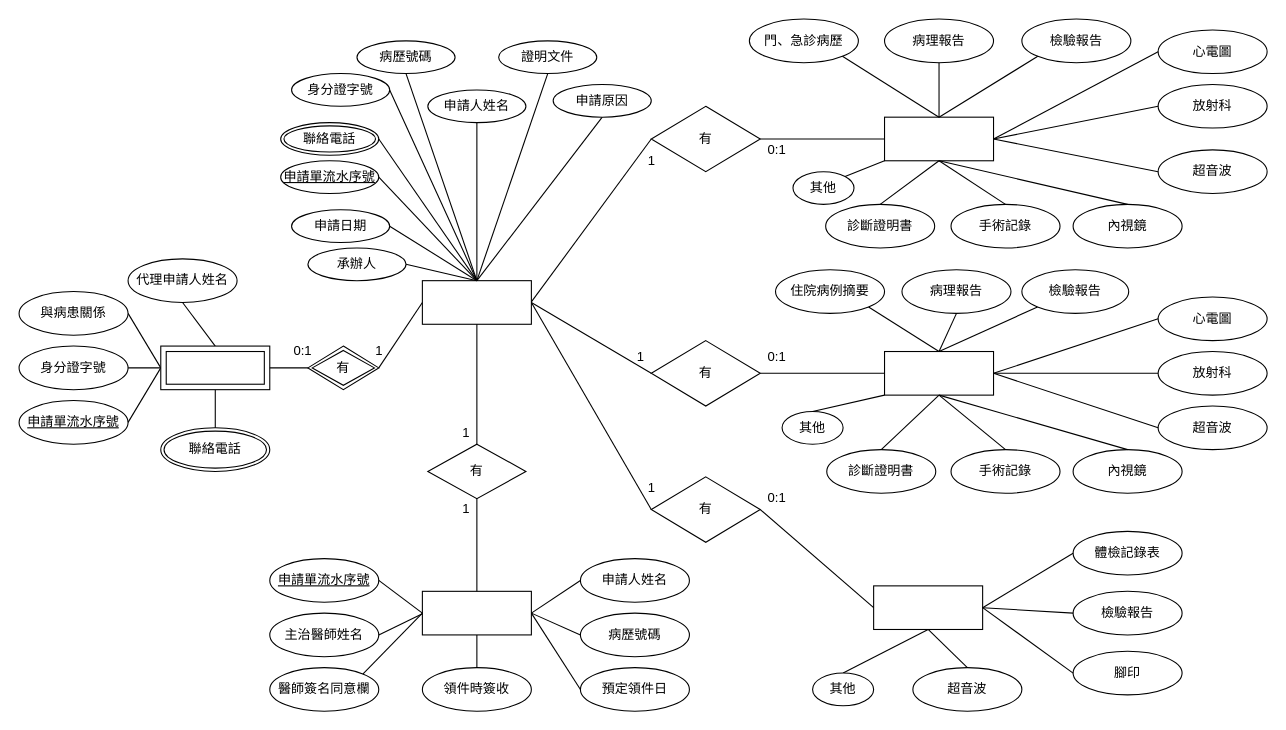
Some shapes in this 1286 by 730 pixel diagram are drawn without their labels. Each missing label, with the box of its shape:
代理申請人: (160, 345, 270, 390)
表尾：領件單: (421, 590, 531, 635)
表身：住院病歷: (883, 116, 994, 161)
表身：新生兒病歷: (873, 585, 983, 629)
表身：門診: (883, 350, 994, 395)
表頭：申請人: (421, 280, 531, 324)
